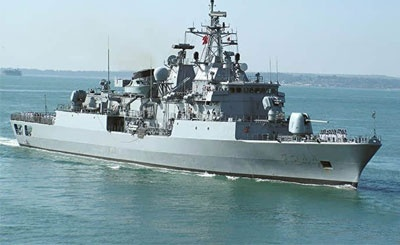warship: (6, 3, 385, 189)
